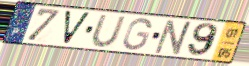7: (27, 7, 62, 43)
9: (186, 22, 221, 59)
G: (120, 17, 153, 52)
N: (152, 18, 197, 57)
U: (90, 14, 128, 49)
V: (62, 9, 93, 47)
